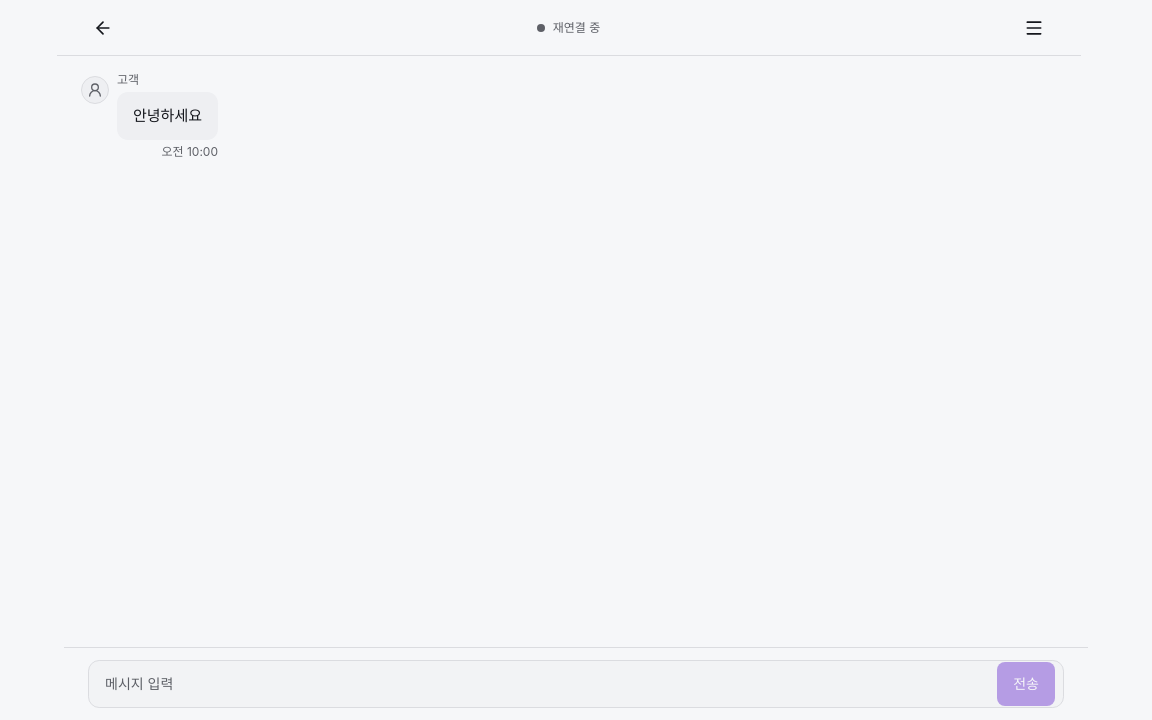
BusinessMobileChatRoom › manages message action menu focus with arrows and Escape
Click the button "안녕하세요" at point(167, 116), box [116,92,218,140]
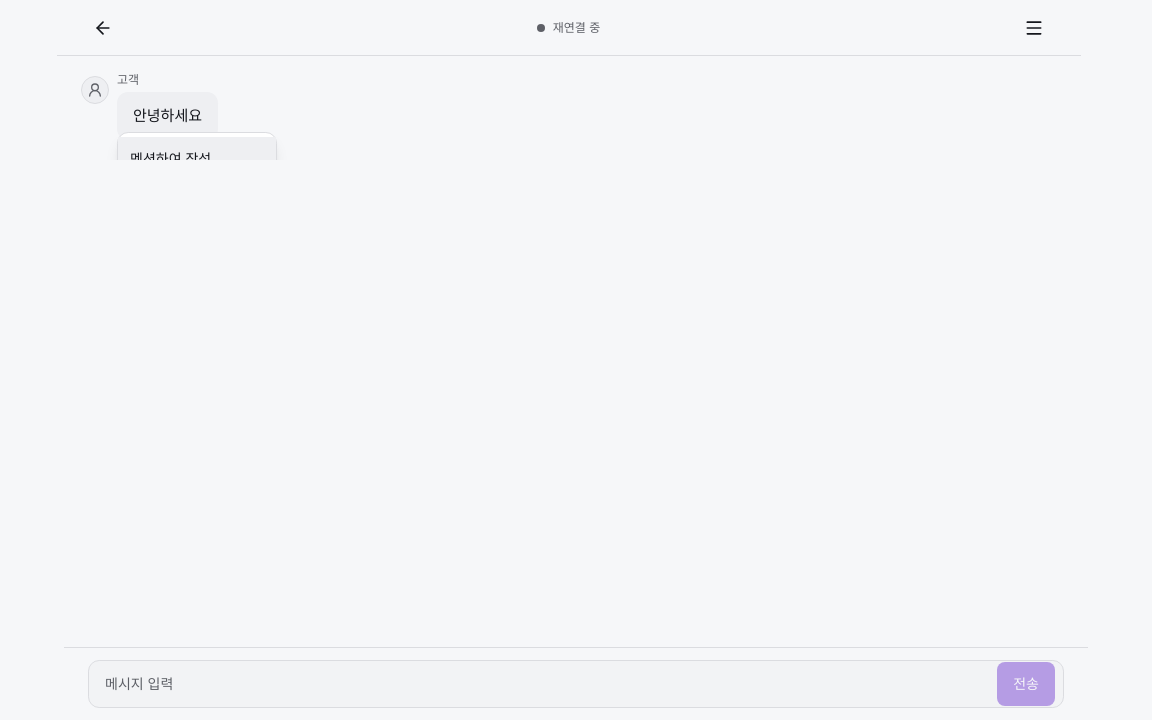
Press Arrowdown
Press Escape
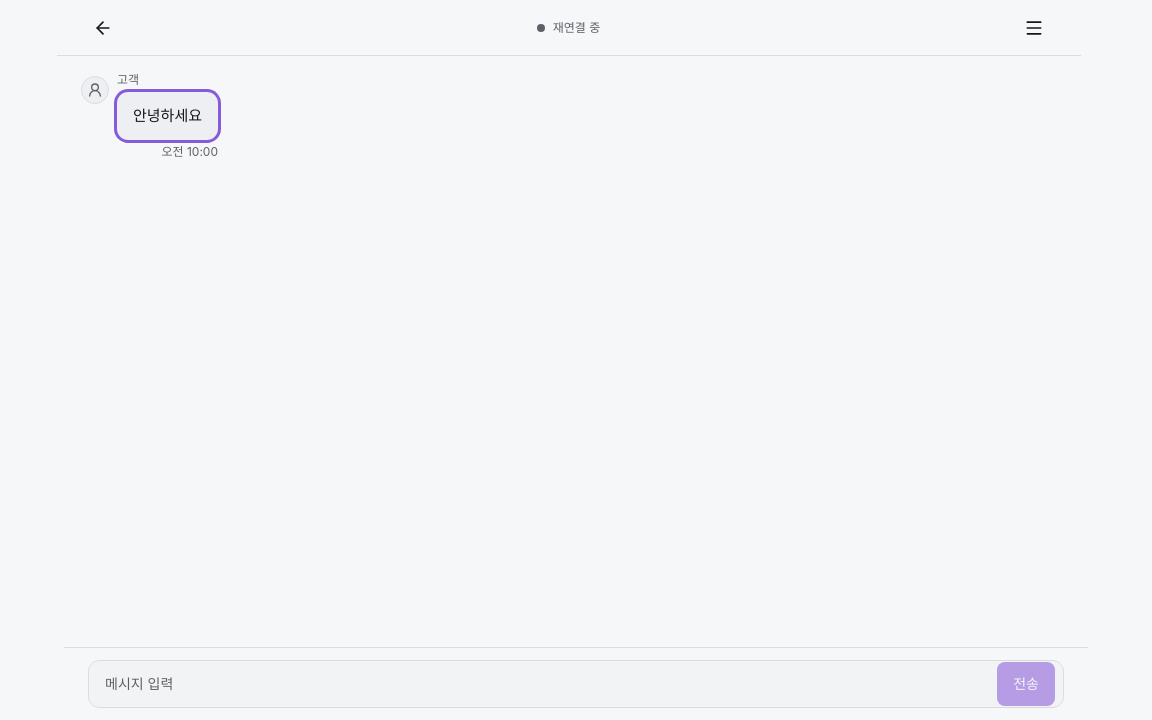
Result: the menu is gone
